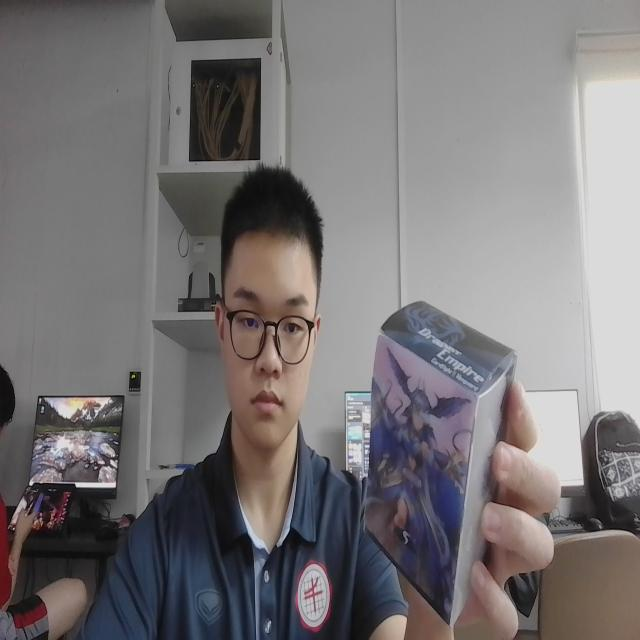box: (355, 290, 520, 634)
